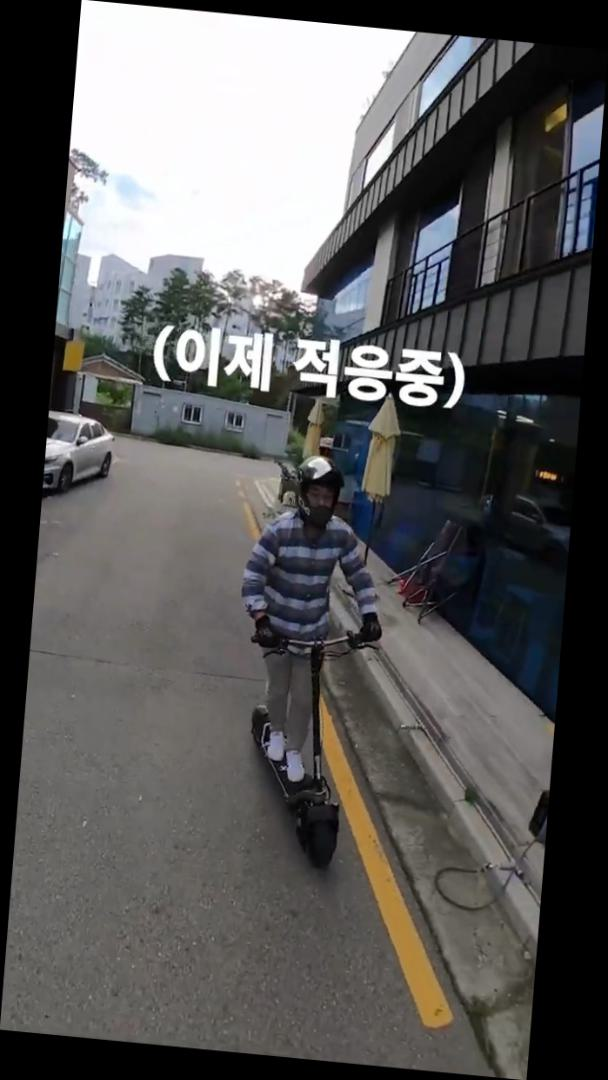helmet: (216, 446, 397, 878)
